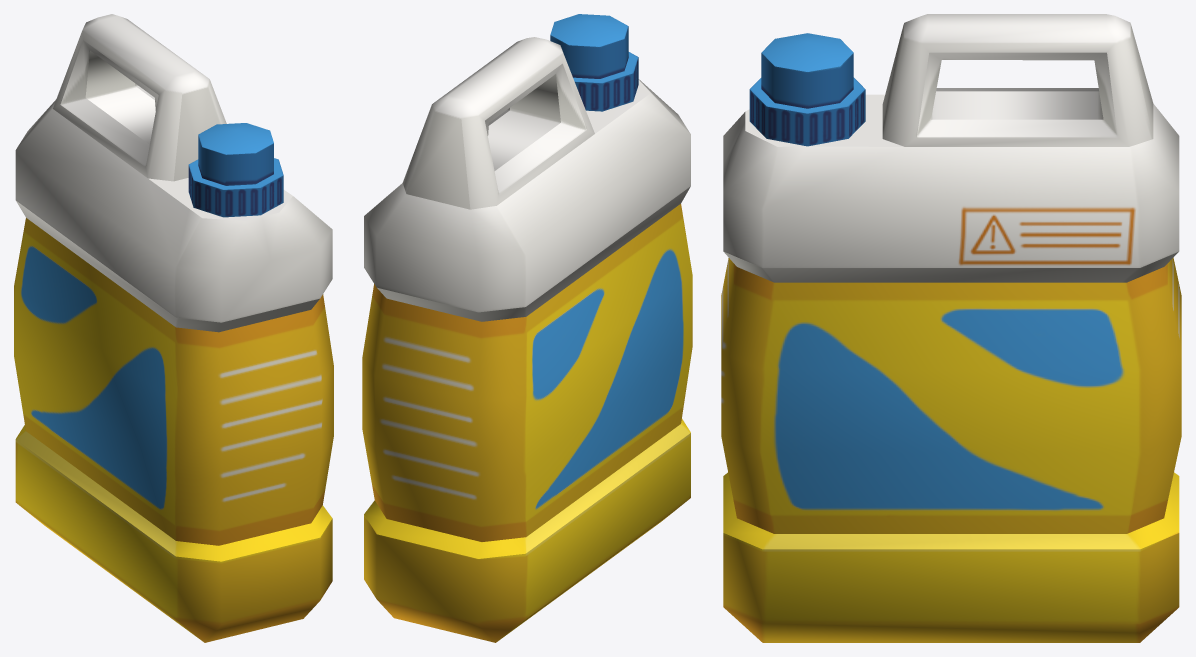
Rendered from cleaners_cleaning_product_canister_1.fbx.
The picture shows the model from 3 angles, left to right: view 1: azimuth 30°, elevation 25°; view 2: azimuth 150°, elevation 25°; view 3: azimuth 270°, elevation 25°; orthographic projection. The views are drawn at different scales.
Parts seen in each view (by area): view 1: cleaners_cleaning_product_canister_1; view 2: cleaners_cleaning_product_canister_1; view 3: cleaners_cleaning_product_canister_1.
Boxes of the visible parts, x1,y1,x2,y2 form: cleaners_cleaning_product_canister_1: (14, 14, 333, 642); cleaners_cleaning_product_canister_1: (362, 14, 692, 642); cleaners_cleaning_product_canister_1: (721, 14, 1181, 642).
Bounding box in the file's own units: 7.08 × 21.63 × 15.16.
